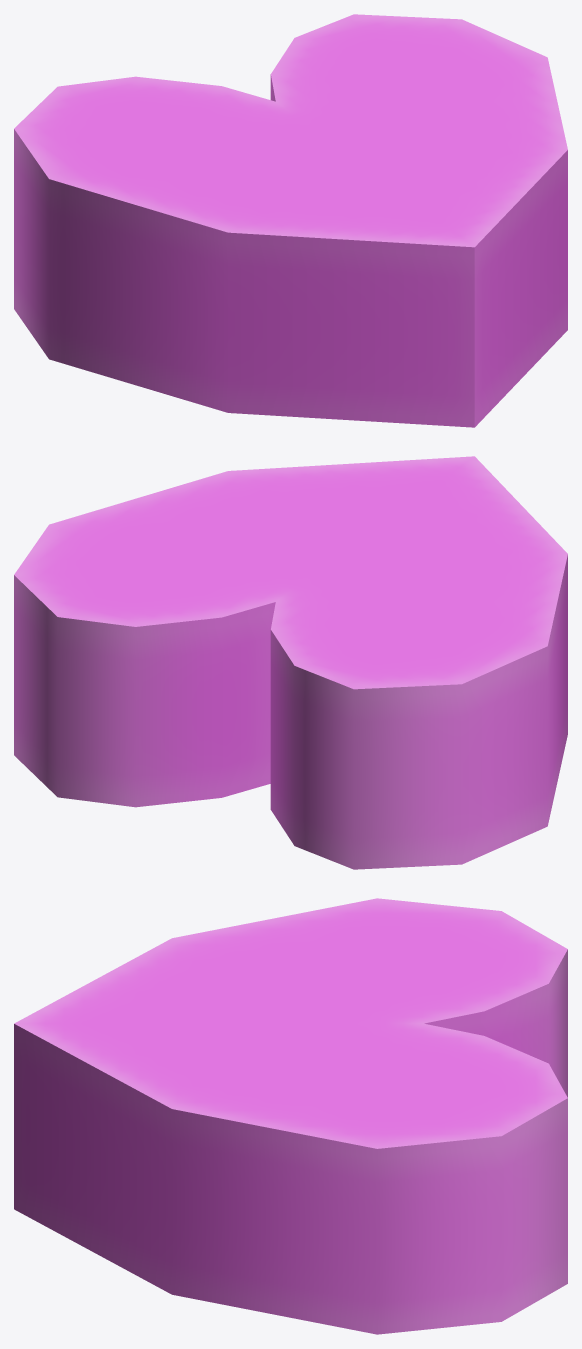
Rendered from jsf_ChocolateDecoration_07.fbx.
3 renders of one model, top to bottom at view 1: azimuth 30°, elevation 25°; view 2: azimuth 150°, elevation 25°; view 3: azimuth 270°, elevation 25°, orthographic. The views are drawn at different scales.
Visible parts, largest first — view 1: jsf_ChocolateDecoration_07; view 2: jsf_ChocolateDecoration_07; view 3: jsf_ChocolateDecoration_07.
Part boxes in pixels (box(x1,y1,x2,y2)): jsf_ChocolateDecoration_07: box(14, 14, 567, 427); jsf_ChocolateDecoration_07: box(14, 456, 567, 869); jsf_ChocolateDecoration_07: box(14, 898, 567, 1334).
Size of the model in its own units: 4.34 by 1.5 by 4.06.
